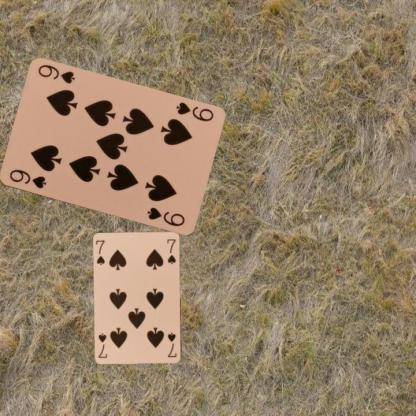7s: (165, 330, 178, 359), (94, 237, 106, 266)
9s: (173, 99, 214, 123), (7, 167, 48, 190)
